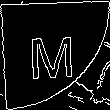M_N: (30, 29, 80, 81)
